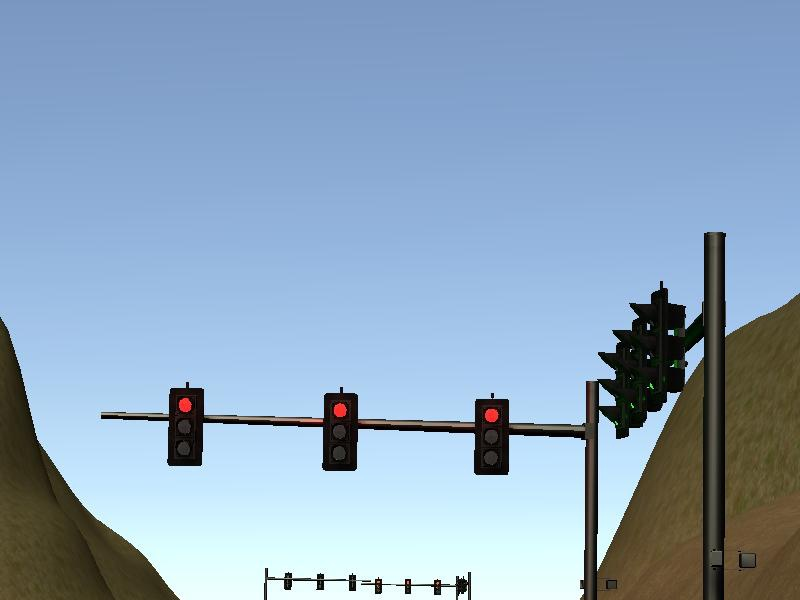Red: (166, 387, 205, 468), (321, 392, 360, 473), (472, 397, 511, 478)
